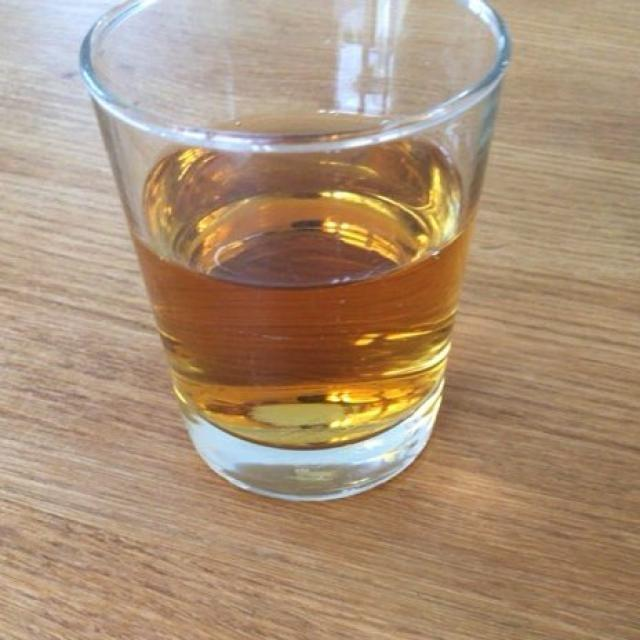tea: (134, 122, 474, 437)
